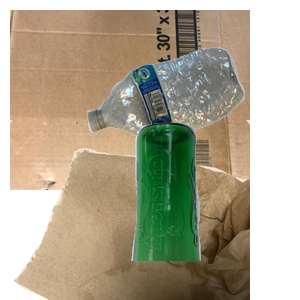cardboard: (10, 10, 250, 190)
glass: (129, 120, 300, 300)
plastic: (85, 45, 300, 175)
trash: (10, 120, 250, 300)
